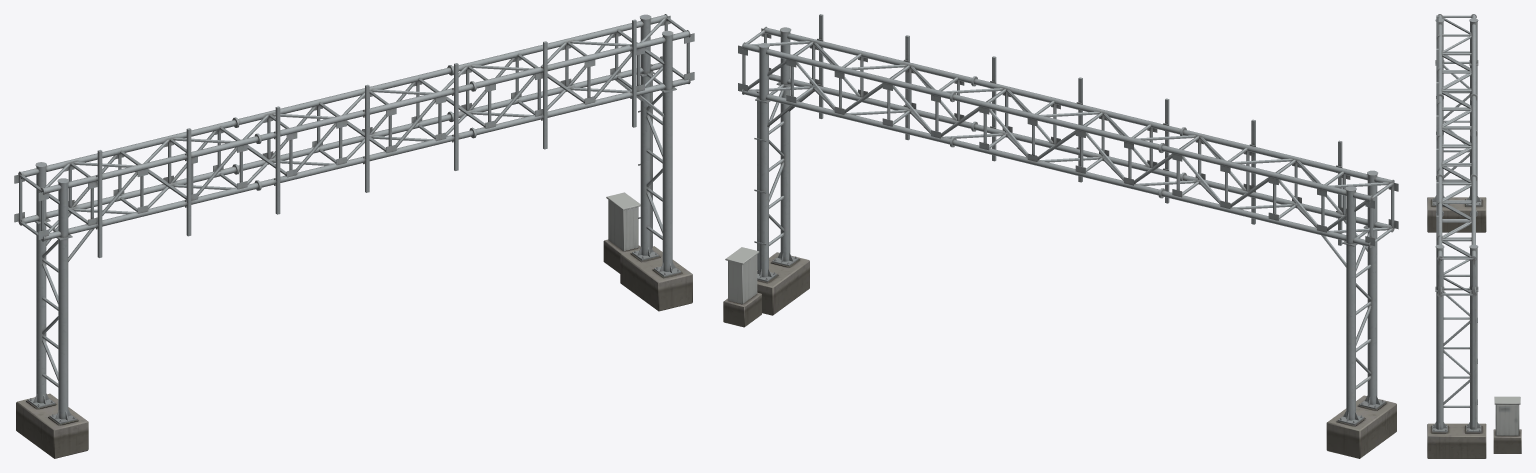
The model's file is sign_gantry.glb.
3 views of the same model, side by side, from view 1: azimuth 30°, elevation 25°; view 2: azimuth 150°, elevation 25°; view 3: azimuth 270°, elevation 25° (orthographic). The views are drawn at different scales.
Visible parts, largest first — view 1: sign_gantry; view 2: sign_gantry; view 3: sign_gantry.
Boxes of the visible parts, left/top/right/bottom form: sign_gantry: left=14, top=14, right=694, bottom=458; sign_gantry: left=723, top=14, right=1398, bottom=458; sign_gantry: left=1427, top=14, right=1521, bottom=458.
Bounding box in the file's own units: 20.62 × 8.75 × 3.35.
1 material, 1 textured.
